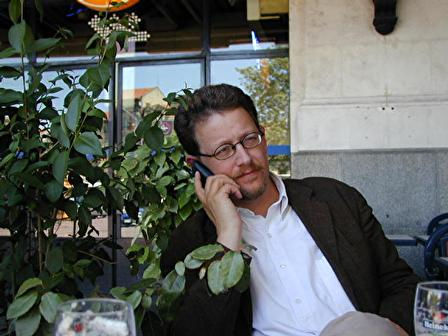person: (157, 86, 425, 336)
